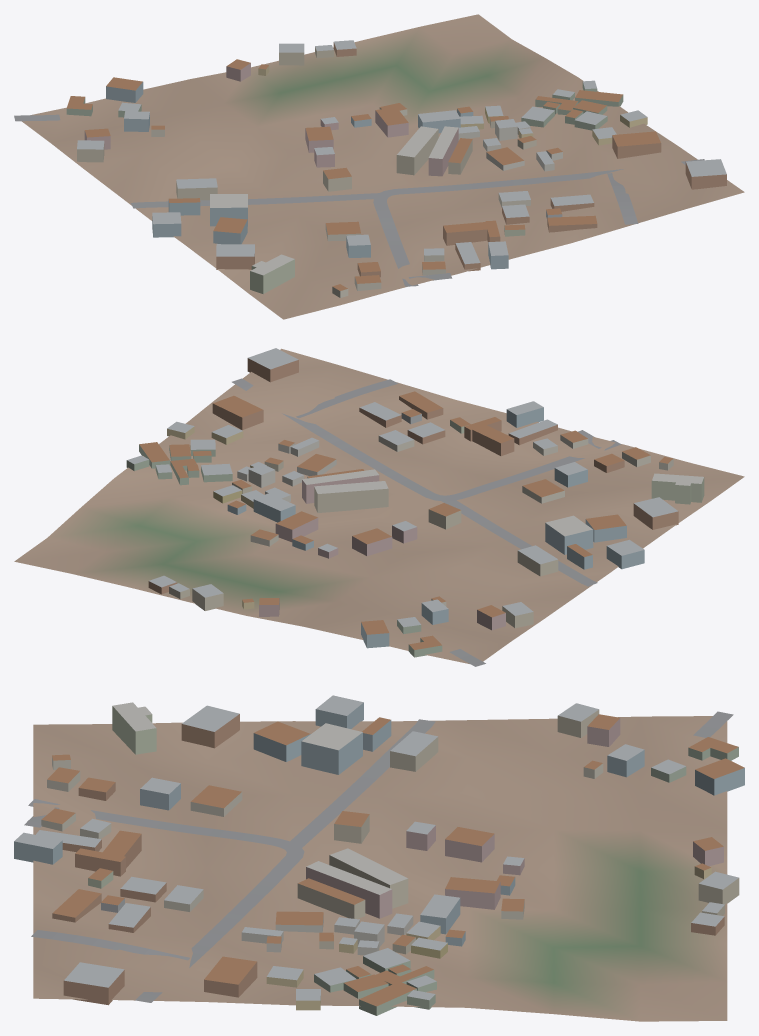
3 views of the same model, one above another, from view 1: azimuth 30°, elevation 25°; view 2: azimuth 150°, elevation 25°; view 3: azimuth 270°, elevation 25° (orthographic). The views are drawn at different scales.
Visible parts, largest first — view 1: Lo; view 2: Lo; view 3: Lo.
Part boxes in pixels (x1,y1,x2,y2): Lo: (14,14,744,319); Lo: (14,348,744,666); Lo: (14,695,744,1021).
Size of the model in its own units: 270 by 15.06 by 270.
